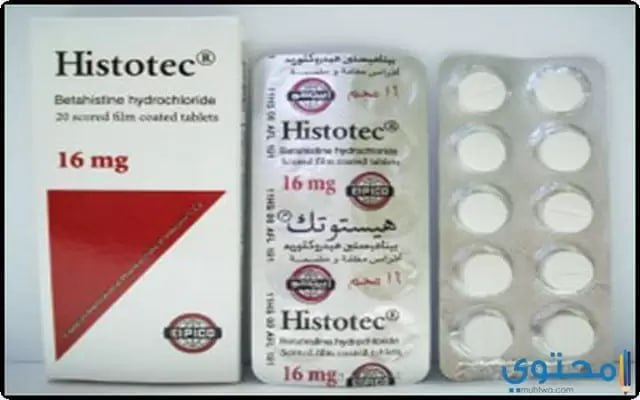Medicine: (31, 14, 248, 386), (250, 49, 433, 391)
